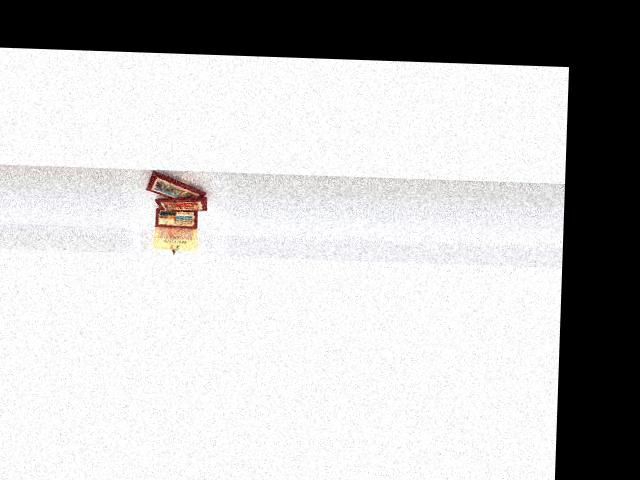chocolate: (133, 165, 210, 203)
